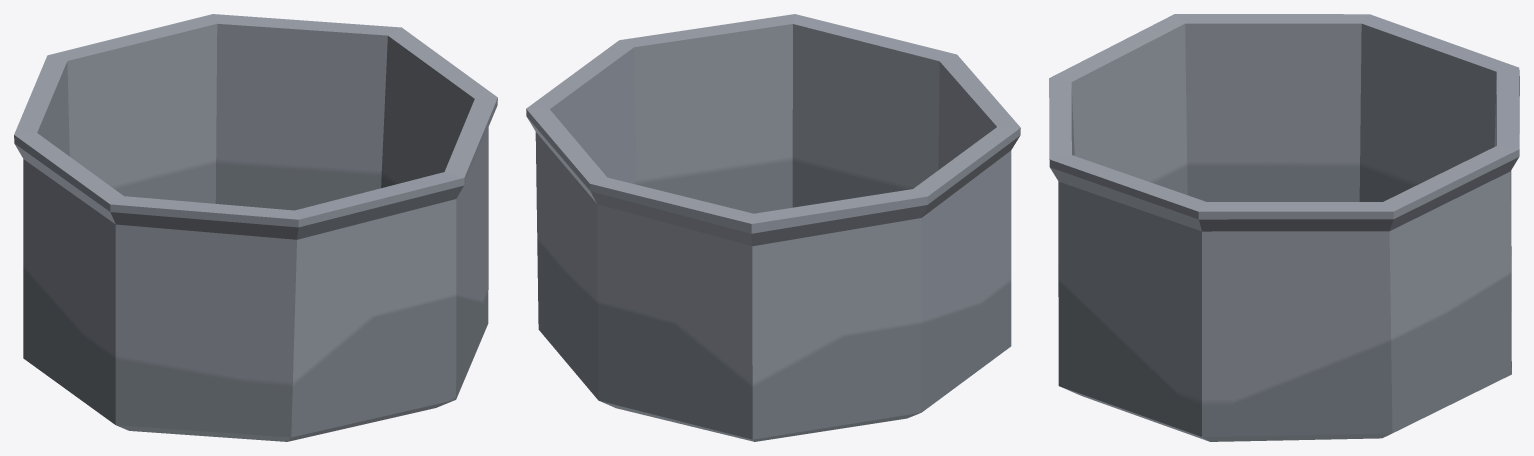
Rendered from SM_Prop_Pot_01.glb.
3 renders of one model, left to right at view 1: azimuth 30°, elevation 25°; view 2: azimuth 150°, elevation 25°; view 3: azimuth 270°, elevation 25°, orthographic. The views are drawn at different scales.
Parts seen in each view (by area): view 1: SM_Prop_Pot_01; view 2: SM_Prop_Pot_01; view 3: SM_Prop_Pot_01.
Boxes of the visible parts, bbox=[...] form: SM_Prop_Pot_01: bbox=[14, 14, 497, 441]; SM_Prop_Pot_01: bbox=[526, 14, 1020, 441]; SM_Prop_Pot_01: bbox=[1049, 14, 1519, 441].
Size of the model in its own units: 0.3746 by 0.2144 by 0.375.
1 material, 1 textured.
